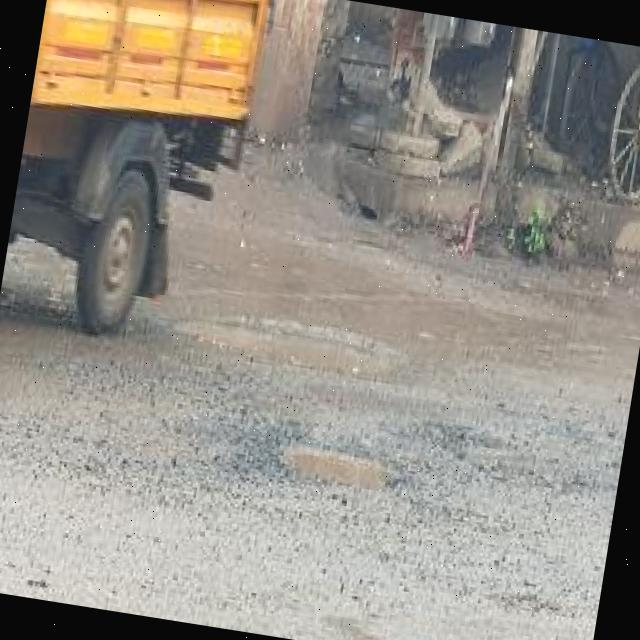waterlogging: (270, 432, 402, 497)
